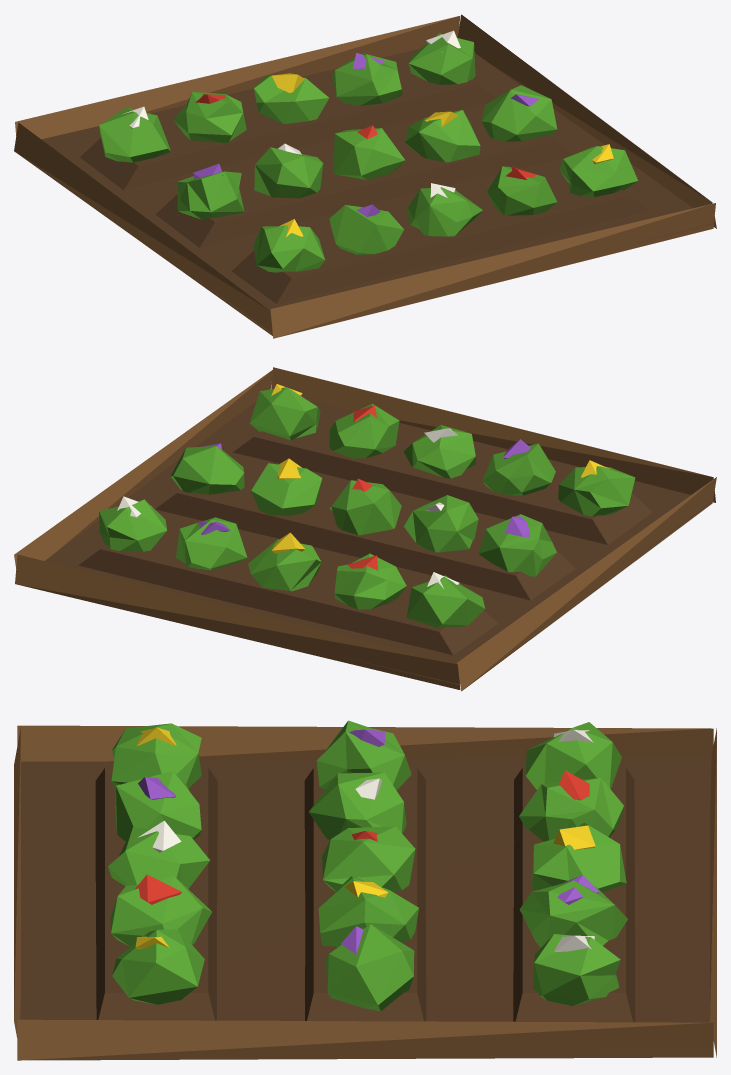
Rendered from garden_plot_3_lod1.glb.
3 renders of one model, top to bottom at view 1: azimuth 30°, elevation 25°; view 2: azimuth 150°, elevation 25°; view 3: azimuth 270°, elevation 25°, orthographic. The views are drawn at different scales.
Visible parts, largest first — view 1: garden_plot_3_lod1; view 2: garden_plot_3_lod1; view 3: garden_plot_3_lod1.
Part boxes in pixels (left/top/right/bottom): garden_plot_3_lod1: left=14, top=14, right=716, bottom=338; garden_plot_3_lod1: left=14, top=367, right=716, bottom=691; garden_plot_3_lod1: left=14, top=720, right=716, bottom=1060.
Size of the model in its own units: 4.04 by 0.5481 by 4.04.
